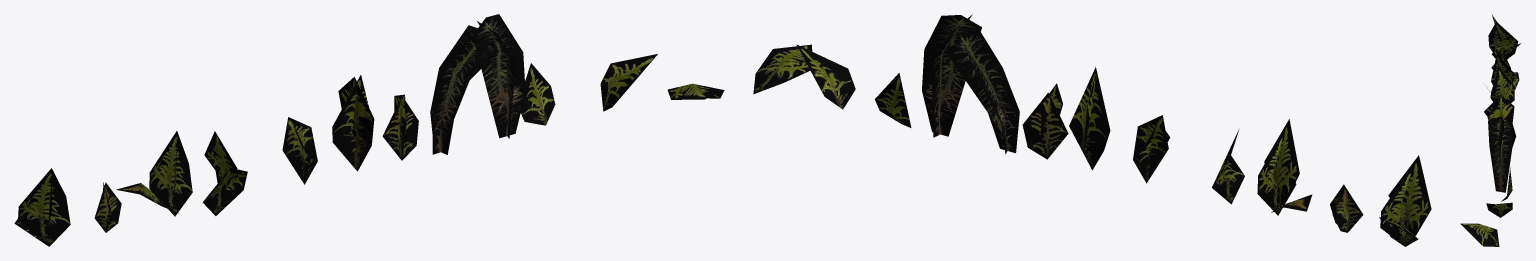
File: moss_01.glb
3 renders of one model, left to right at view 1: azimuth 30°, elevation 25°; view 2: azimuth 150°, elevation 25°; view 3: azimuth 270°, elevation 25°, orthographic. The views are drawn at different scales.
Parts seen in each view (by area): view 1: moss_01_c_LOD0; view 2: moss_01_c_LOD0; view 3: moss_01_c_LOD0.
Part boxes in pixels (<box>): moss_01_c_LOD0: <box>14,14,724,246</box>; moss_01_c_LOD0: <box>753,14,1431,246</box>; moss_01_c_LOD0: <box>1460,15,1520,246</box>.
Bounding box in the file's own units: 0.2153 × 0.0404 × 0.0294.
Materials: 1 (1 with a texture image).
